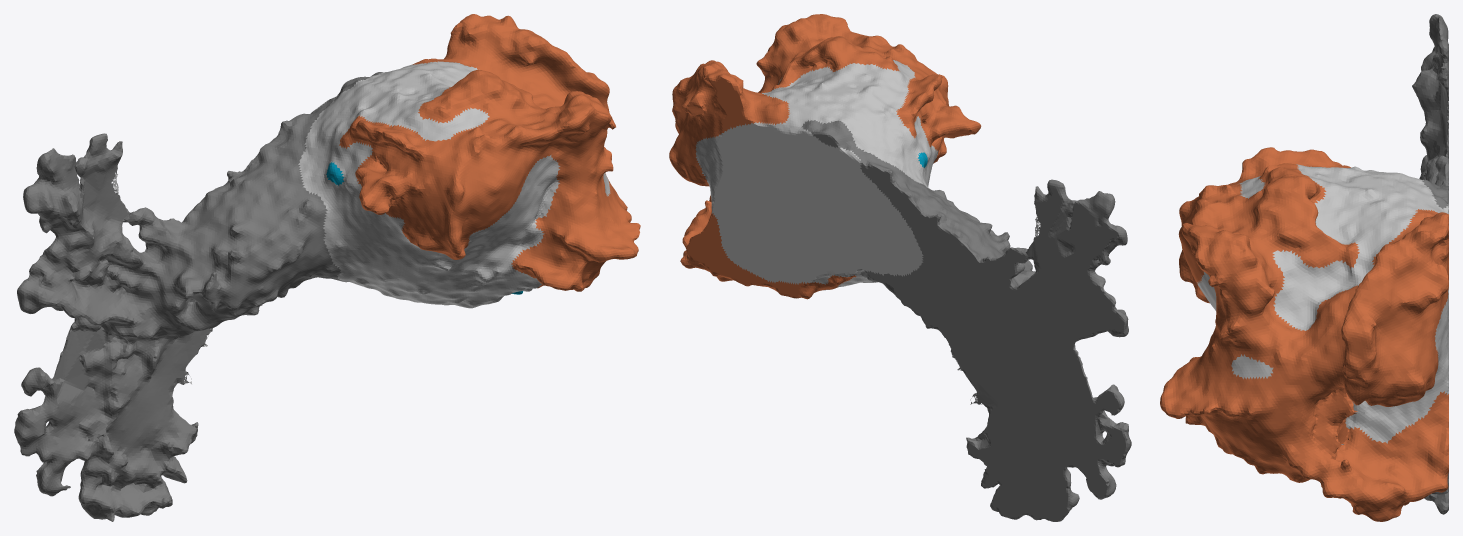
3 views of the same model, side by side, from view 1: azimuth 30°, elevation 25°; view 2: azimuth 150°, elevation 25°; view 3: azimuth 270°, elevation 25° (orthographic). The views are drawn at different scales.
Size of the model in its own units: 198 by 146 by 80.5.
